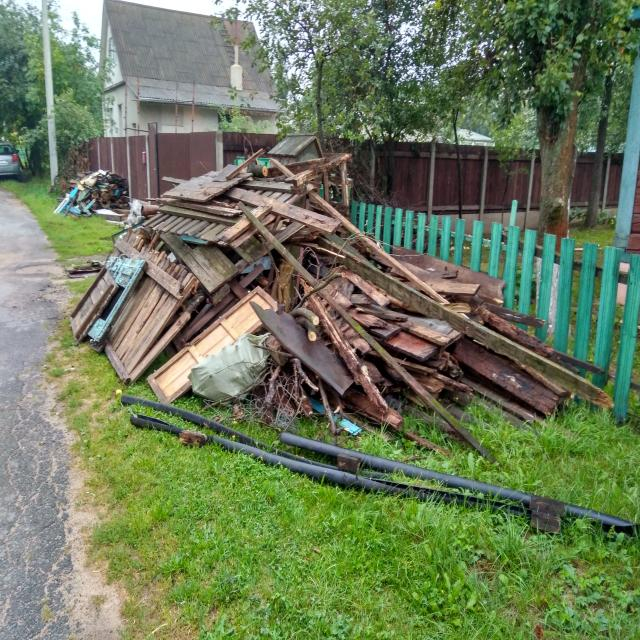entulho: (251, 256, 504, 453), (86, 241, 269, 407), (466, 297, 589, 433), (444, 469, 640, 535), (270, 445, 458, 512), (120, 395, 263, 463), (277, 424, 444, 477), (314, 190, 401, 277), (154, 230, 248, 300), (235, 192, 335, 238), (281, 149, 354, 210), (69, 264, 122, 344), (55, 170, 131, 220), (160, 171, 253, 205), (153, 202, 249, 232), (266, 132, 326, 174), (237, 150, 286, 193), (419, 280, 484, 300), (267, 156, 298, 182)
